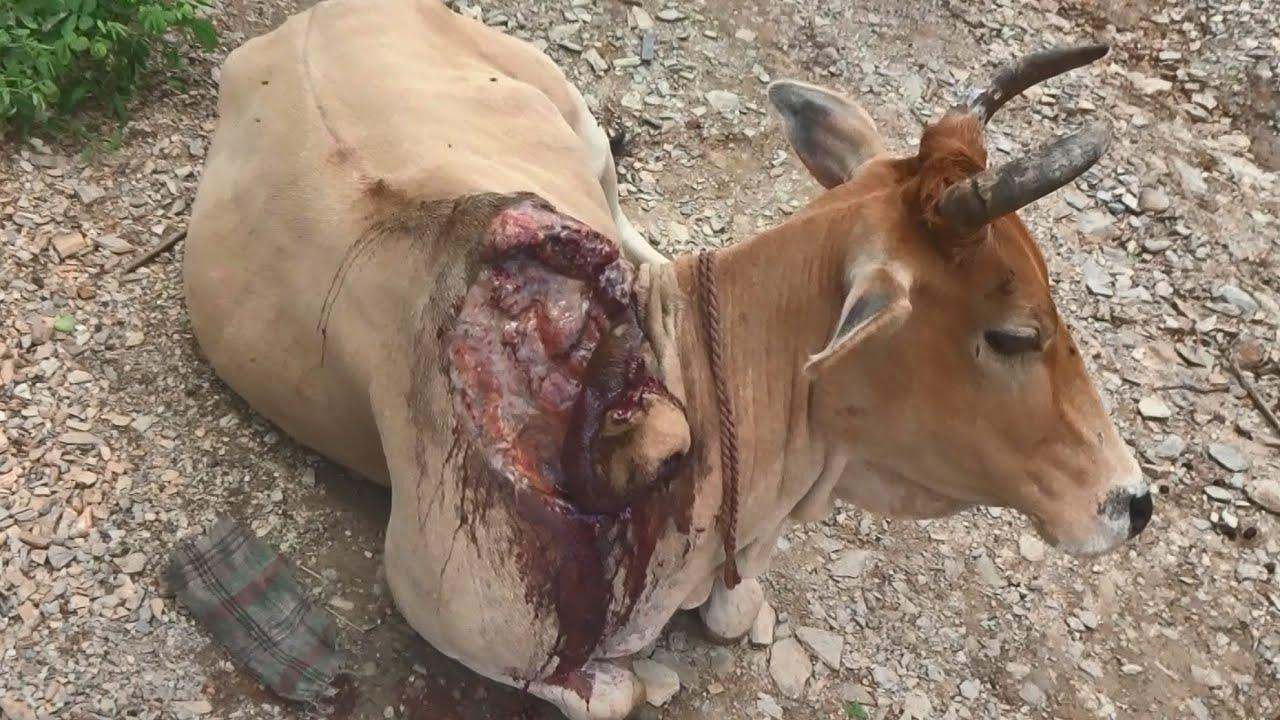bleeding: (444, 195, 703, 667)
